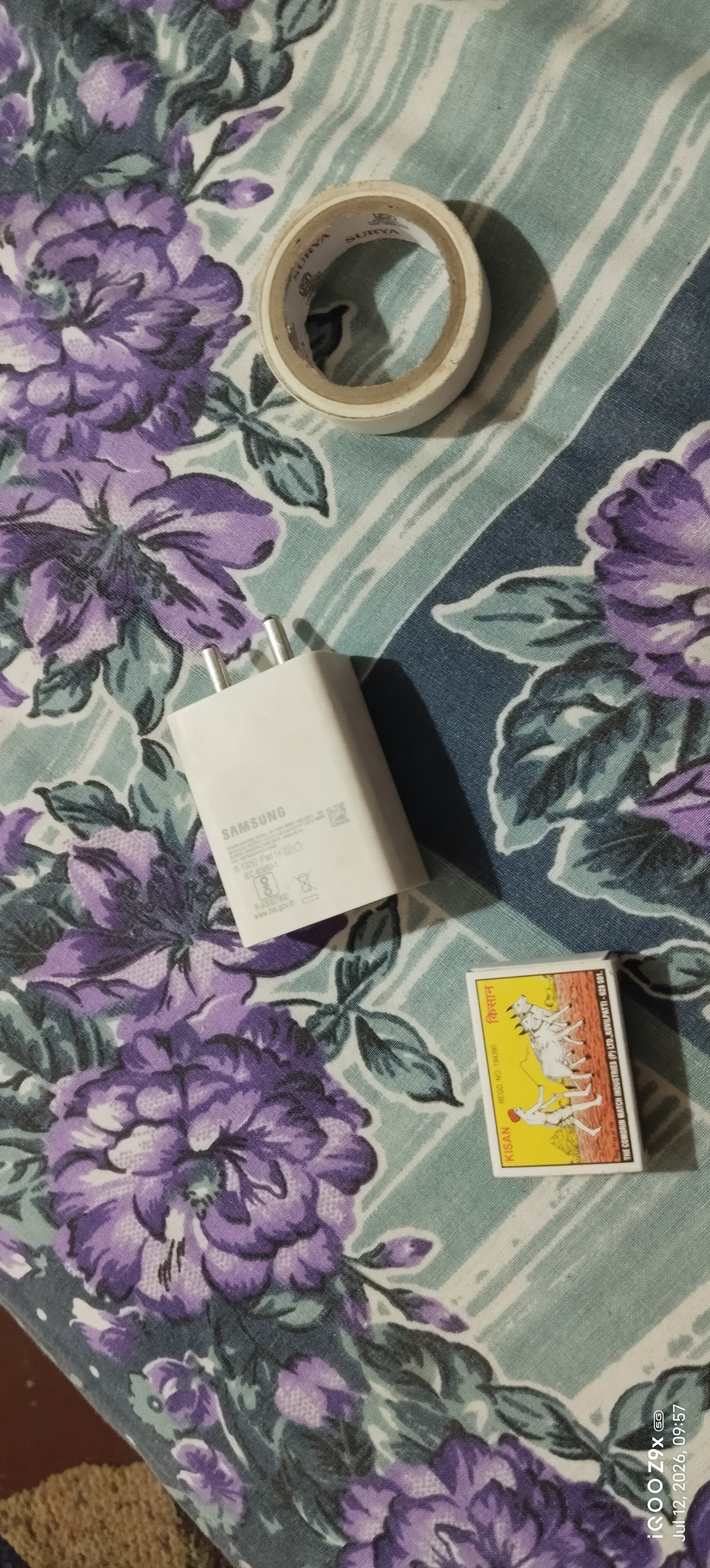charger: (136, 597, 438, 991)
matchbox: (455, 936, 672, 1226)
tape_roll: (226, 159, 527, 481)
